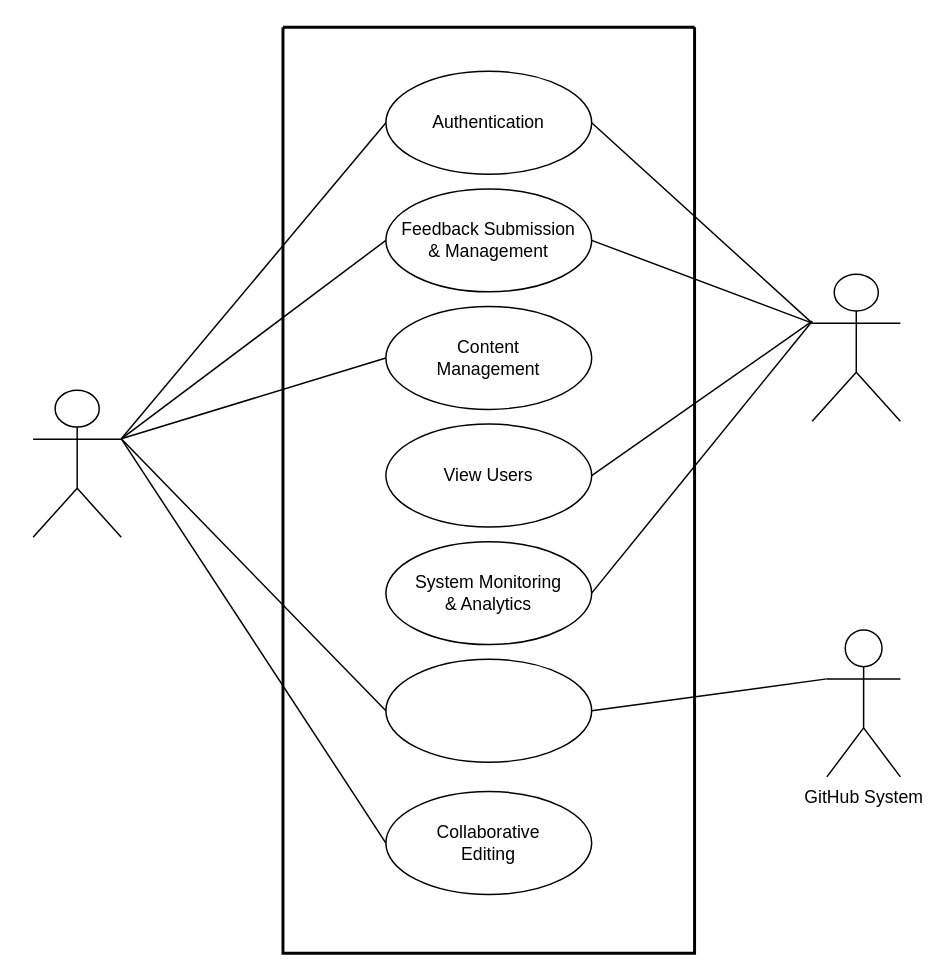
This 948x979 diagram has some shape labels left out. Each missing label, with the centre of its shape:
"Admin User" goes at pixel 855 347.
"Regular User" goes at pixel 76 463.
"Repository Synchronization" goes at pixel 488 710.
